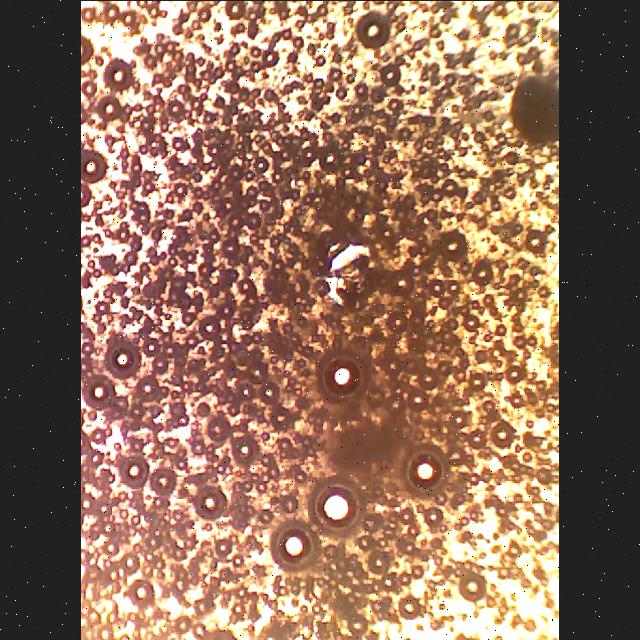Fragment: (502, 70, 560, 150)
microbeads: (314, 344, 368, 408), (309, 479, 363, 535), (274, 514, 324, 570), (400, 441, 450, 494)
